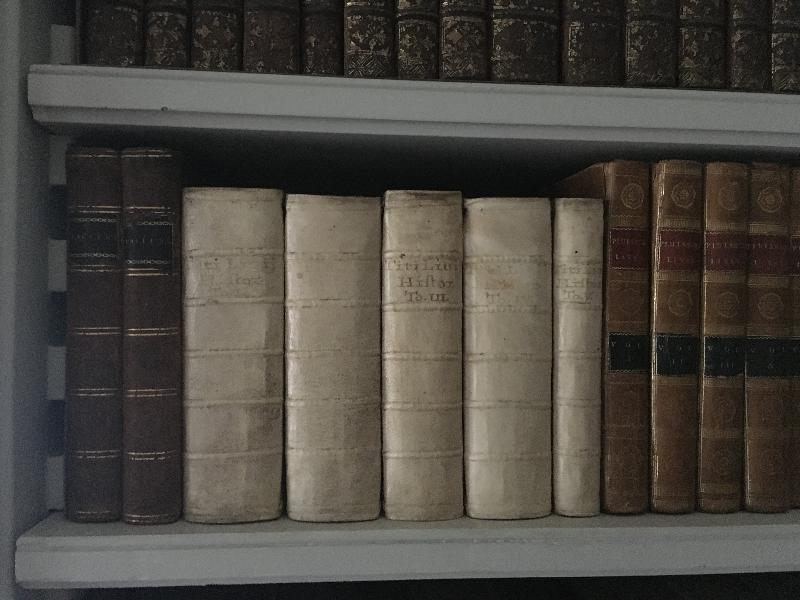Kk4-1_2: (64, 144, 181, 530)
Kk4-3_7: (183, 180, 607, 524)
Kk4-8_13: (608, 161, 800, 512)
